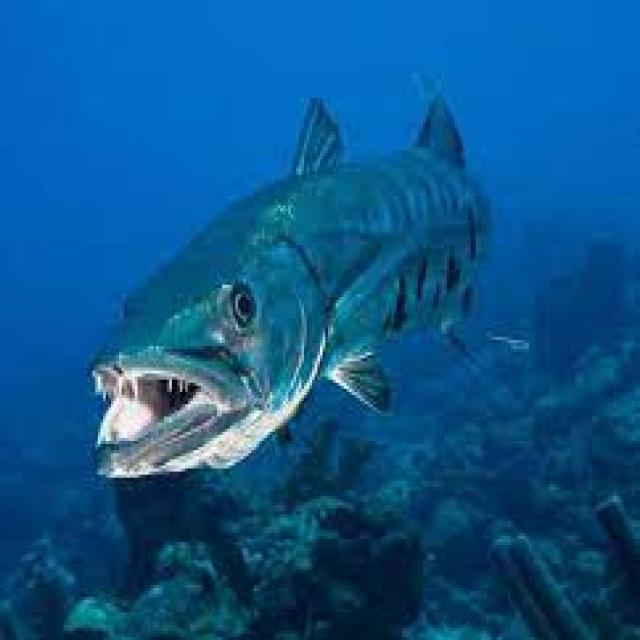Barracuda: (84, 92, 494, 484)
